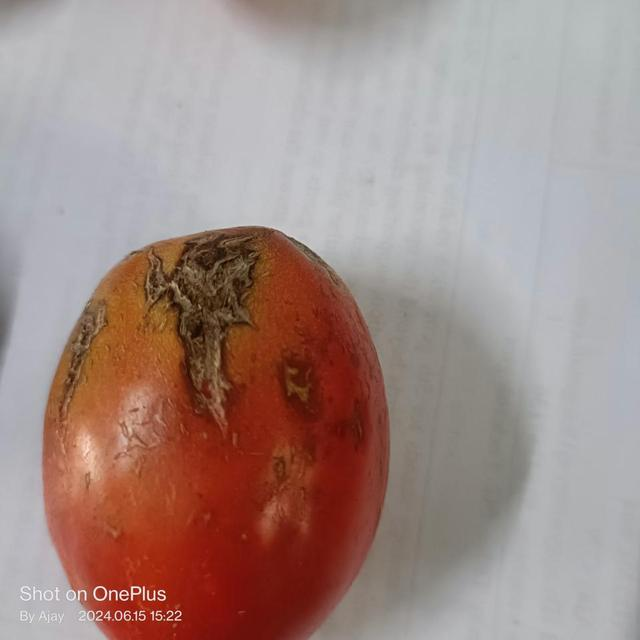Cracking Fruit: (38, 183, 96, 281)
